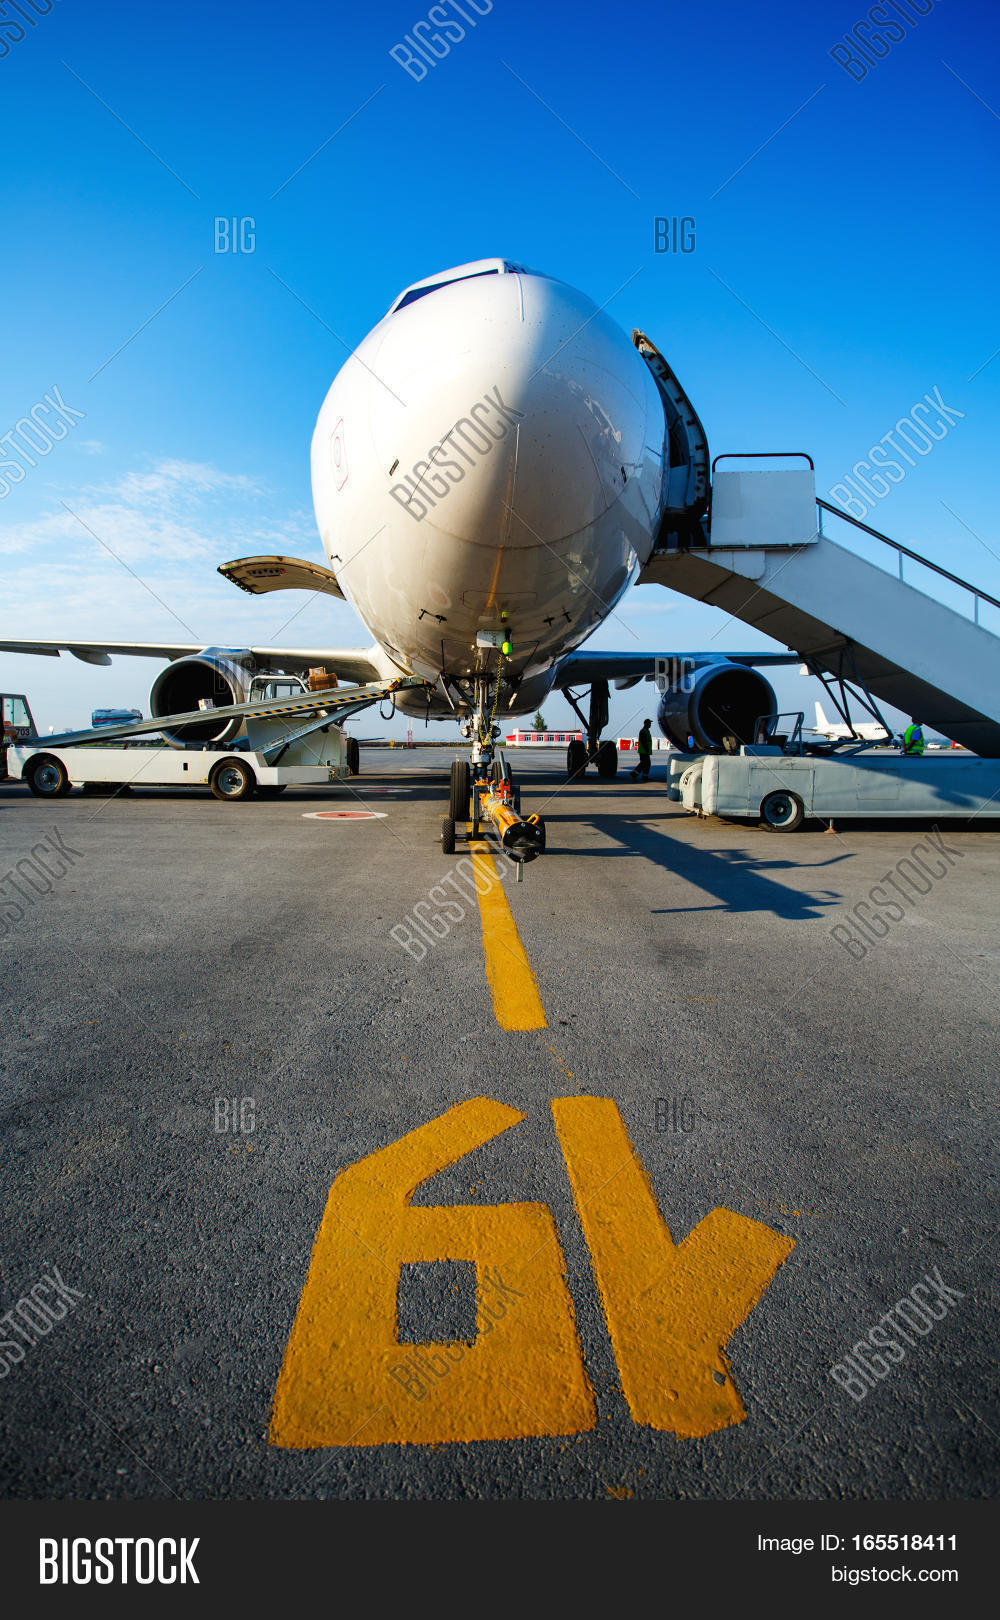baggagetruck: (1, 672, 397, 819)
